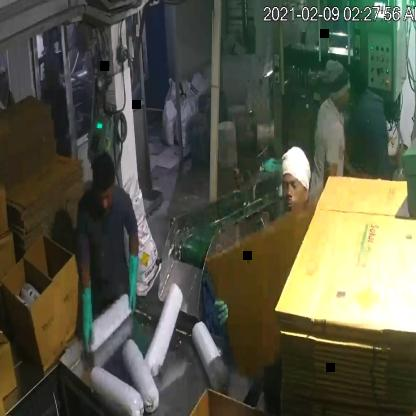glove: (67, 266, 103, 368), (117, 248, 145, 320)
